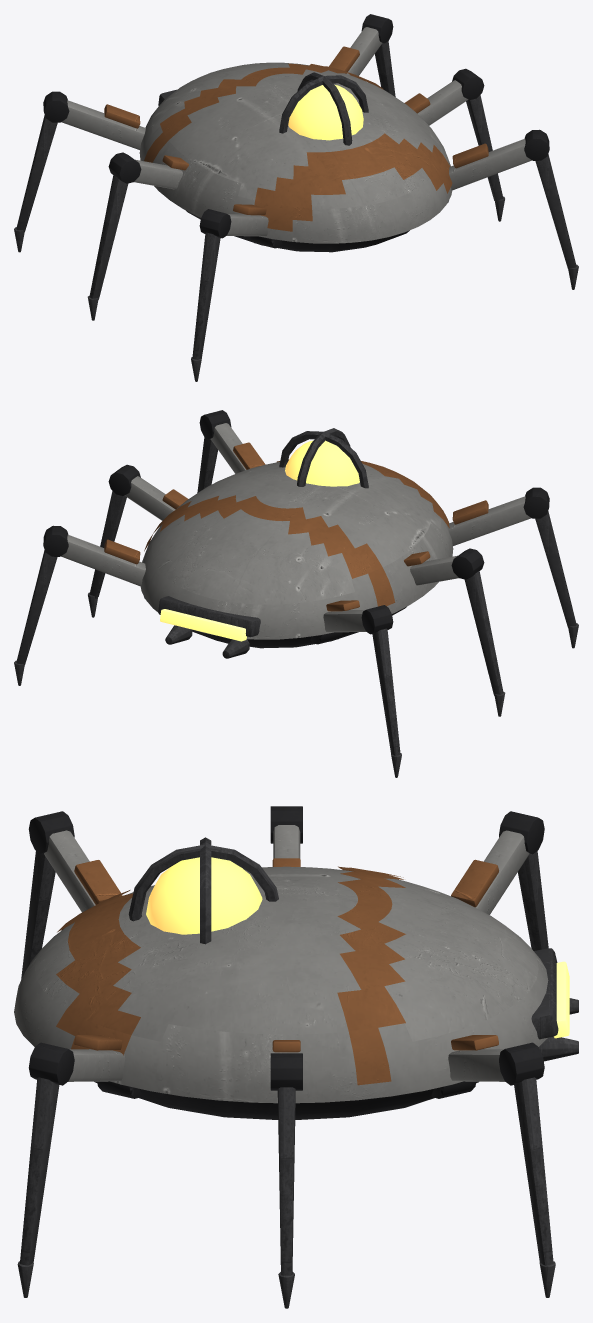
The model's file is arc_tick.glb.
3 renders of one model, top to bottom at view 1: azimuth 30°, elevation 25°; view 2: azimuth 150°, elevation 25°; view 3: azimuth 270°, elevation 25°, orthographic. The views are drawn at different scales.
Parts seen in each view (by area): view 1: tick_body, tick, tick_core; view 2: tick_body, tick, tick_core; view 3: tick_body, tick, tick_core.
Boxes of the visible parts, <box> form: tick_body: <box>139,62,452,252</box>; tick: <box>14,14,578,381</box>; tick_core: <box>288,85,363,140</box>; tick_body: <box>140,428,453,658</box>; tick: <box>14,410,578,777</box>; tick_core: <box>285,440,359,486</box>; tick_body: <box>14,837,578,1119</box>; tick: <box>17,806,555,1308</box>; tick_core: <box>146,857,262,934</box>.
Bounding box in the file's own units: 1.31 × 0.647 × 1.04.
6 materials, 4 textured.
